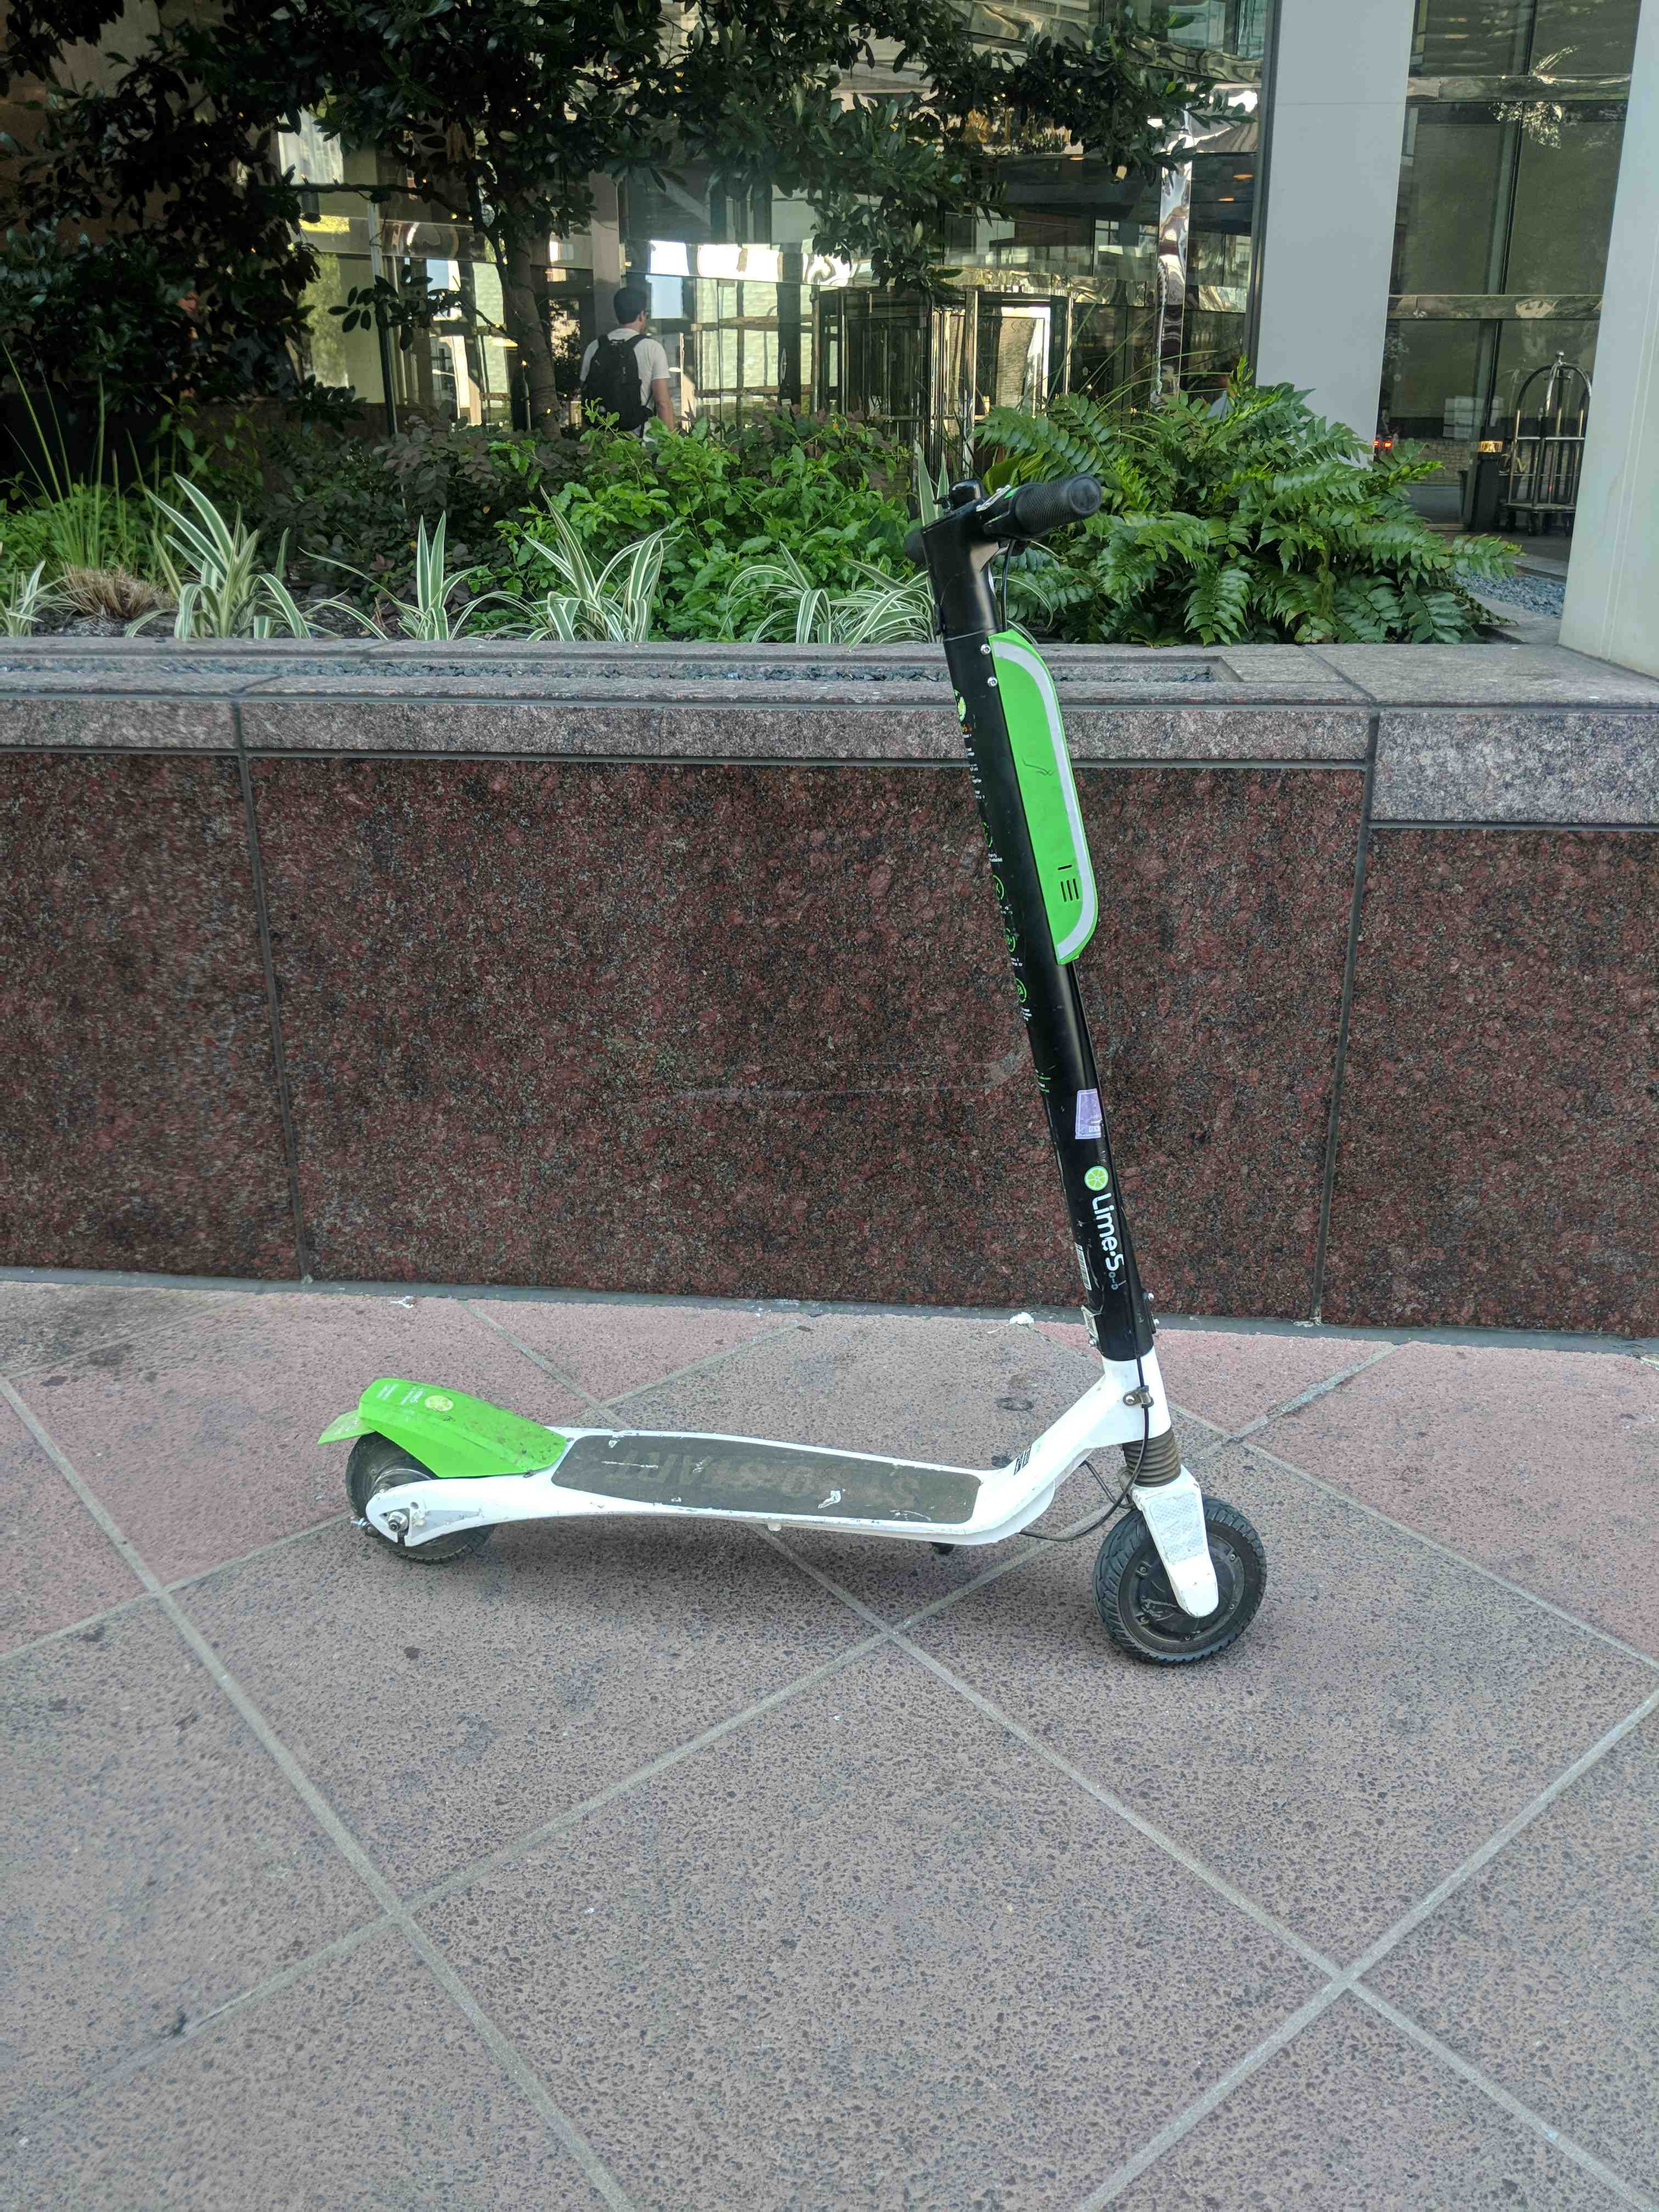scooter: (293, 442, 1270, 1670)
